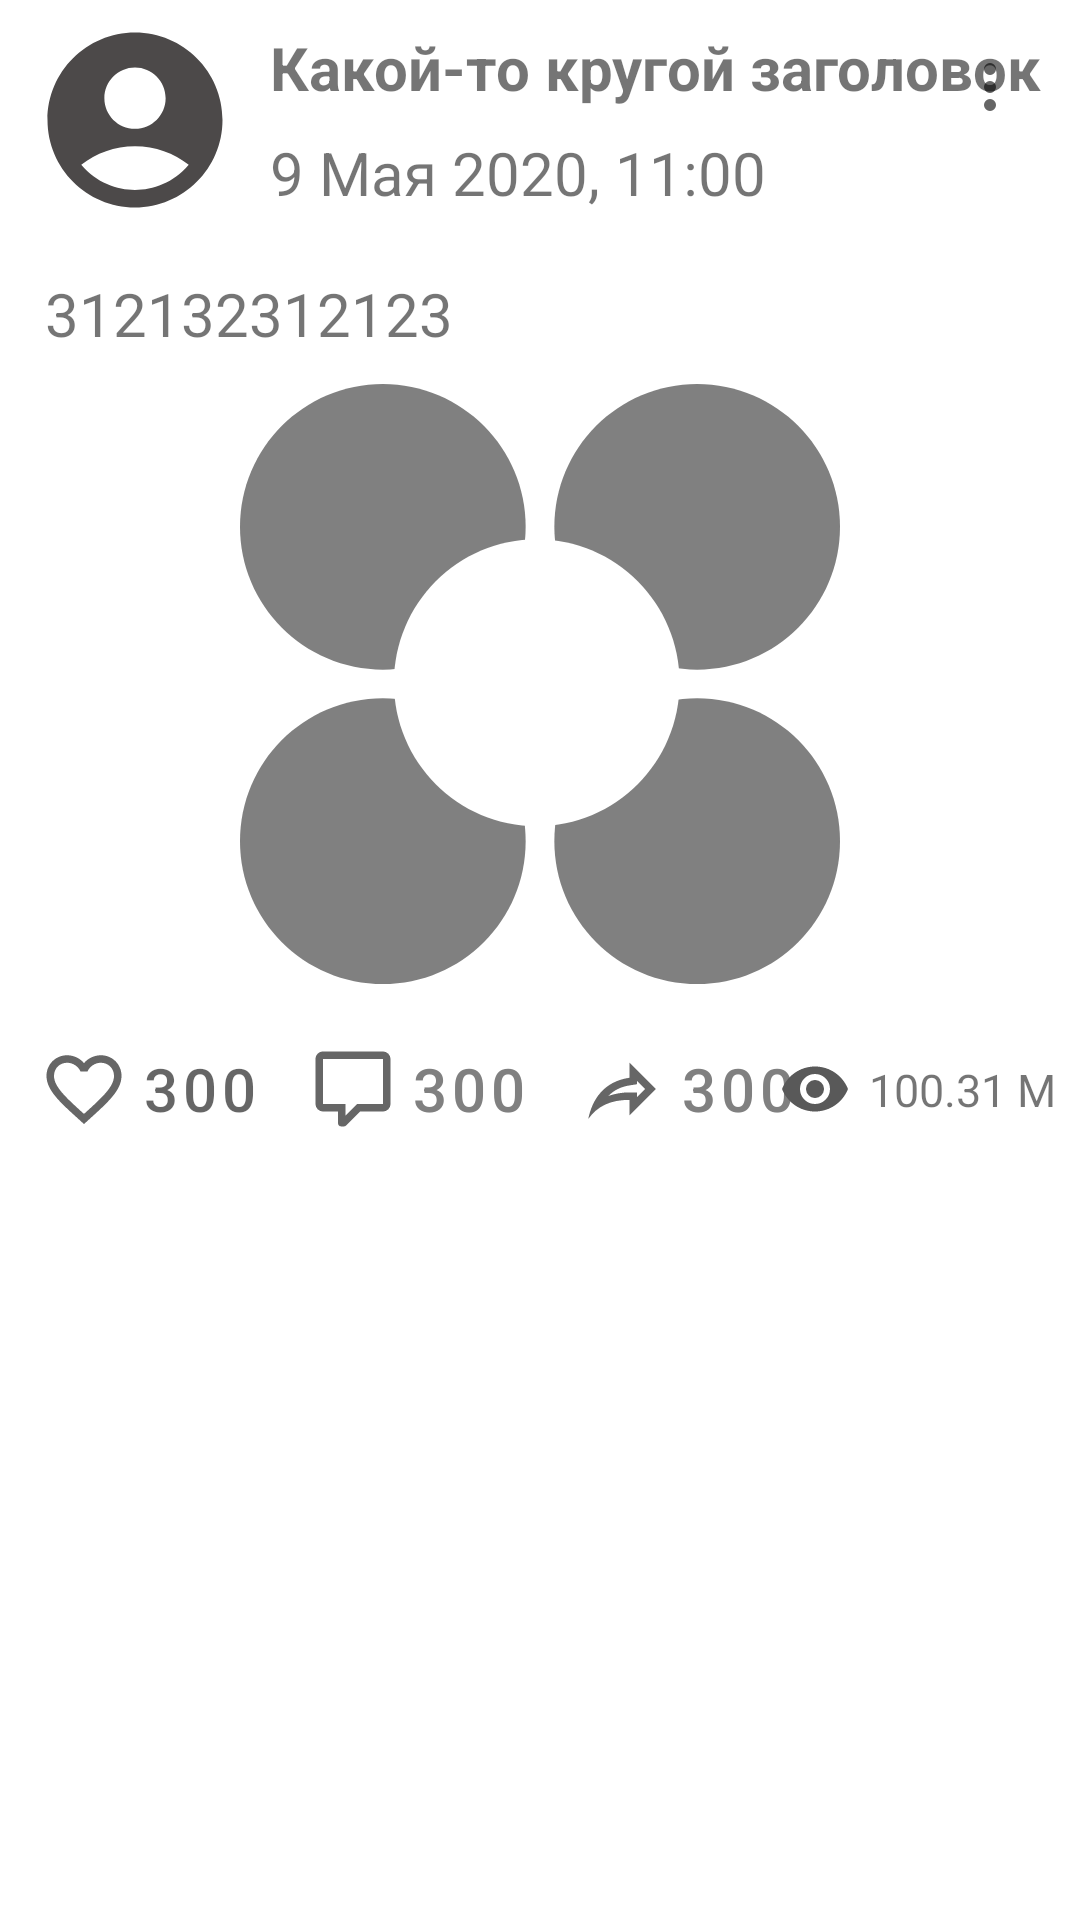

Named icons in this screenshot (1080px×1920px) and their bounding boxes, detection(x1, y1, x2, y2):
eye: detection(779, 1066, 848, 1113)
Group's profile image: detection(47, 32, 223, 208)
